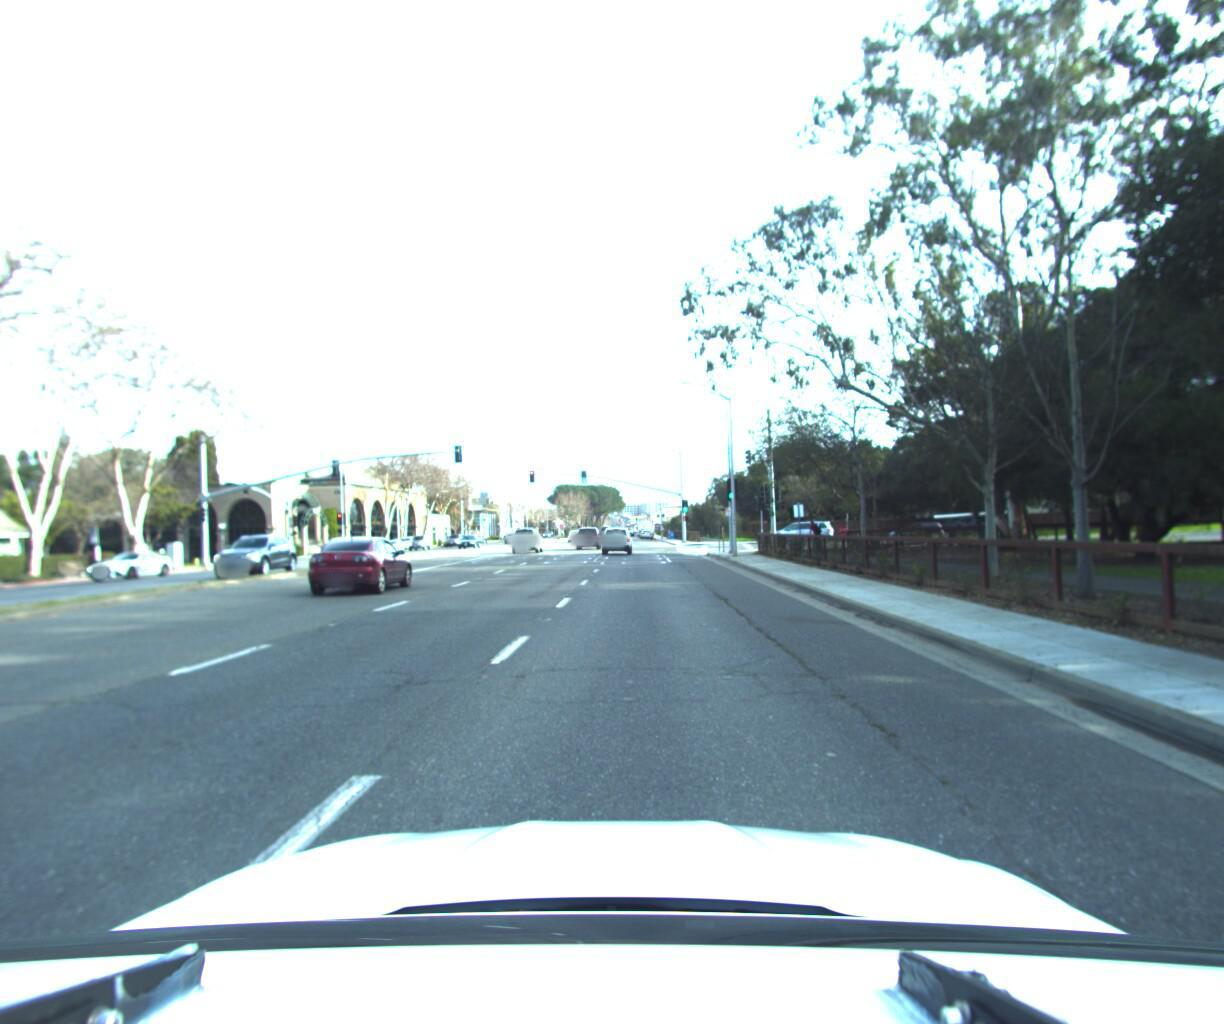bicycle: (798, 513, 830, 549)
car: (306, 531, 419, 597), (204, 533, 302, 580), (80, 548, 180, 585), (764, 516, 832, 541), (598, 521, 634, 553), (510, 524, 546, 551), (573, 525, 600, 549), (453, 532, 481, 547)
